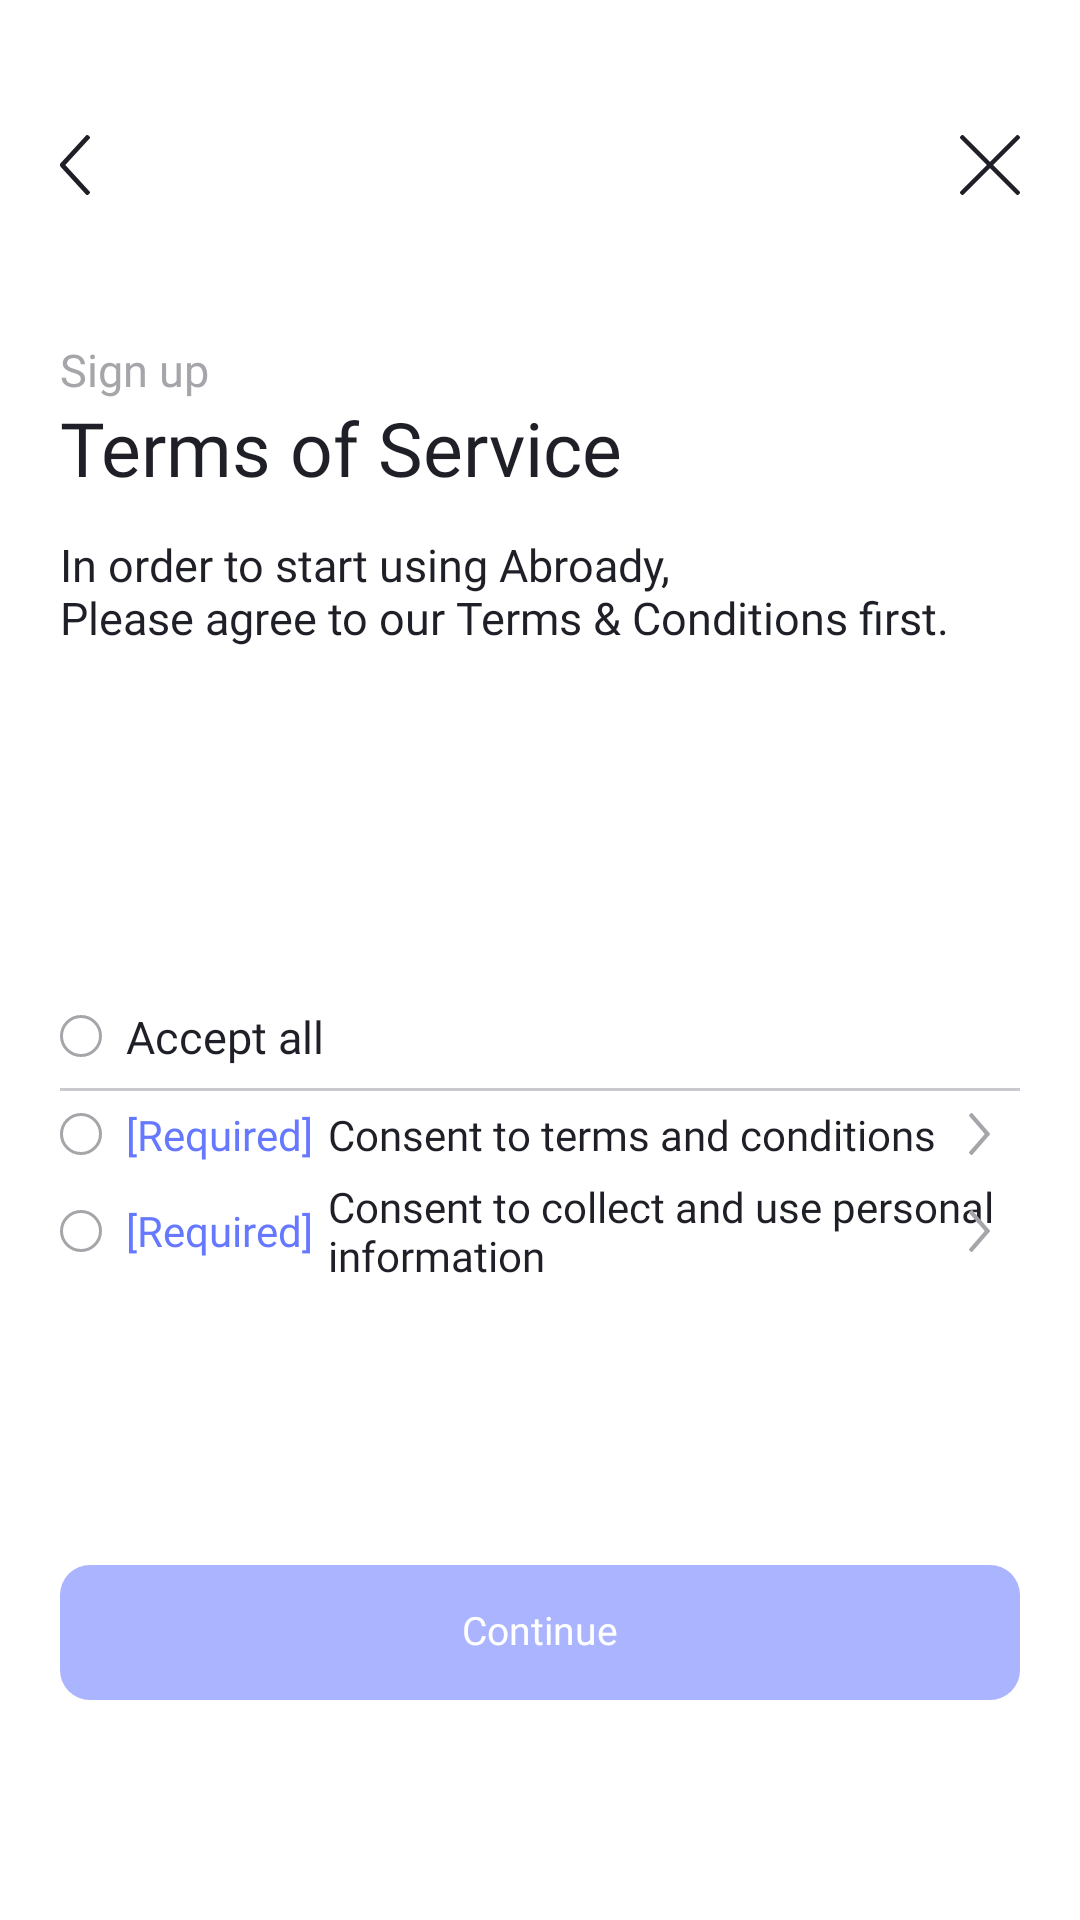

Icon click points for this 1080 × 1920 phone screenshot, format (x=x, y=y):
back: (x=75, y=165)
close: (x=990, y=165)
